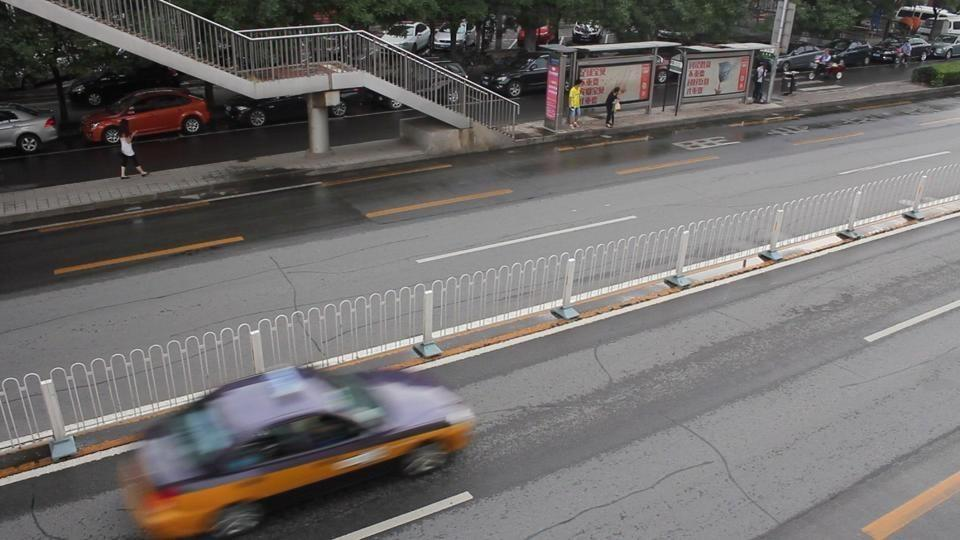car: (118, 364, 478, 538), (79, 89, 212, 144), (483, 56, 556, 98), (0, 105, 58, 155), (774, 45, 831, 75), (381, 21, 432, 53), (831, 43, 876, 67), (896, 36, 936, 62), (869, 41, 904, 64), (925, 40, 959, 61)
